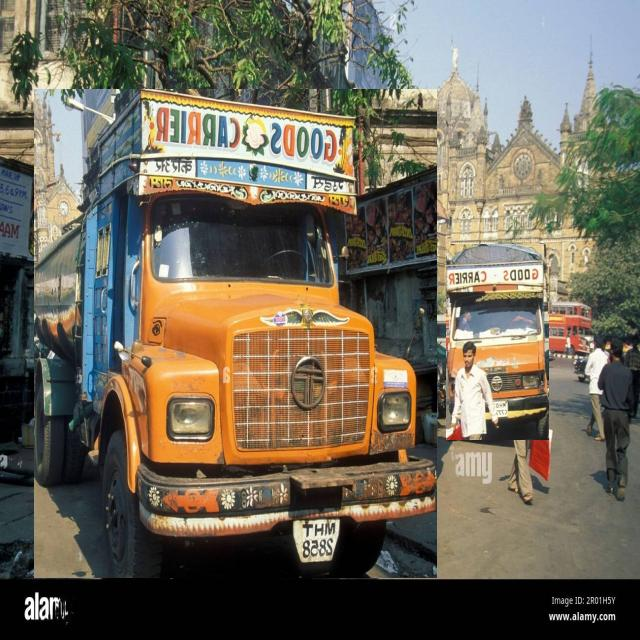truck: (35, 90, 437, 578), (446, 244, 549, 440)
